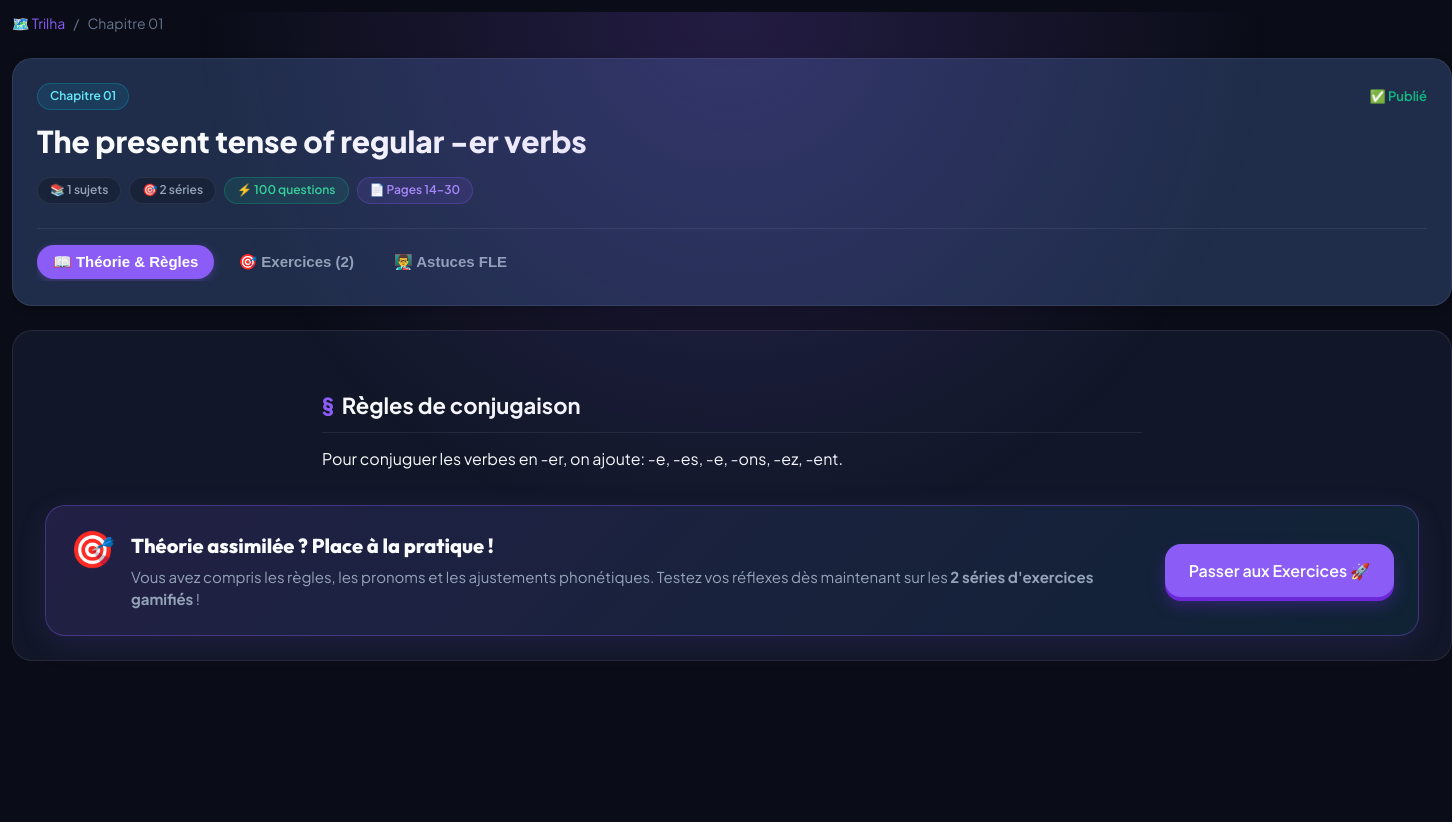
ChapterPage Component › renders theory by default and allows switching to exercises tab
The image size is (1452, 822).
Expected: the text "Pour conjuguer les verbes en -er" is shown, [322,448,843,469]
Expected: the heading "Théorie assimilée ? Place à la pratique !" is shown, [131,533,494,558]
Note: Clicking roadmap CTA switches to exercises tab
Click the button "Passer aux Exercices 🚀" at [1279, 570], box [1165,544,1394,597]
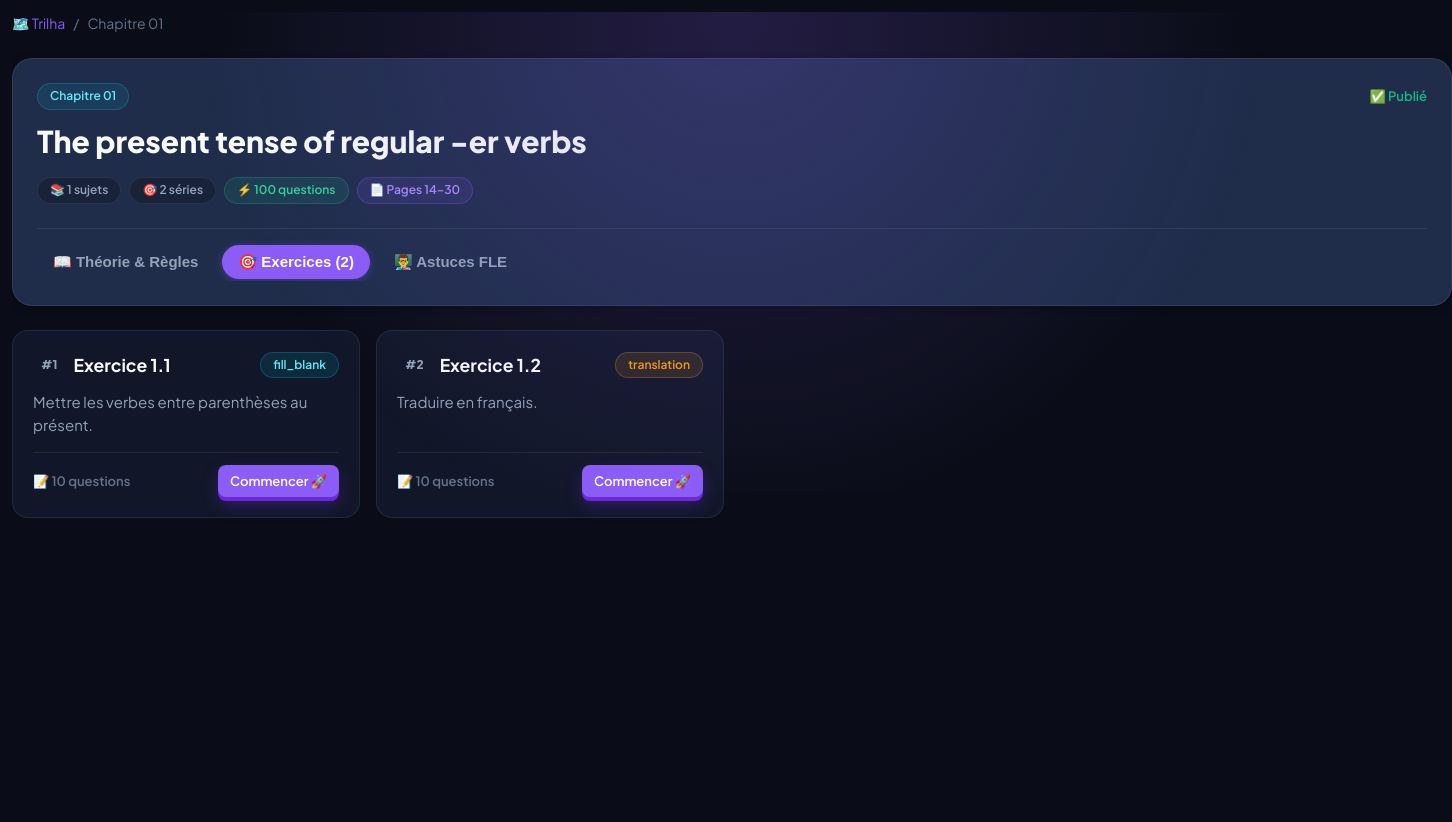
Now the heading "Exercice 1.1" is shown, box [74,351,171,379]
Now the text "Mettre les verbes entre parenthèses au présent." is shown, box [33,391,339,436]
